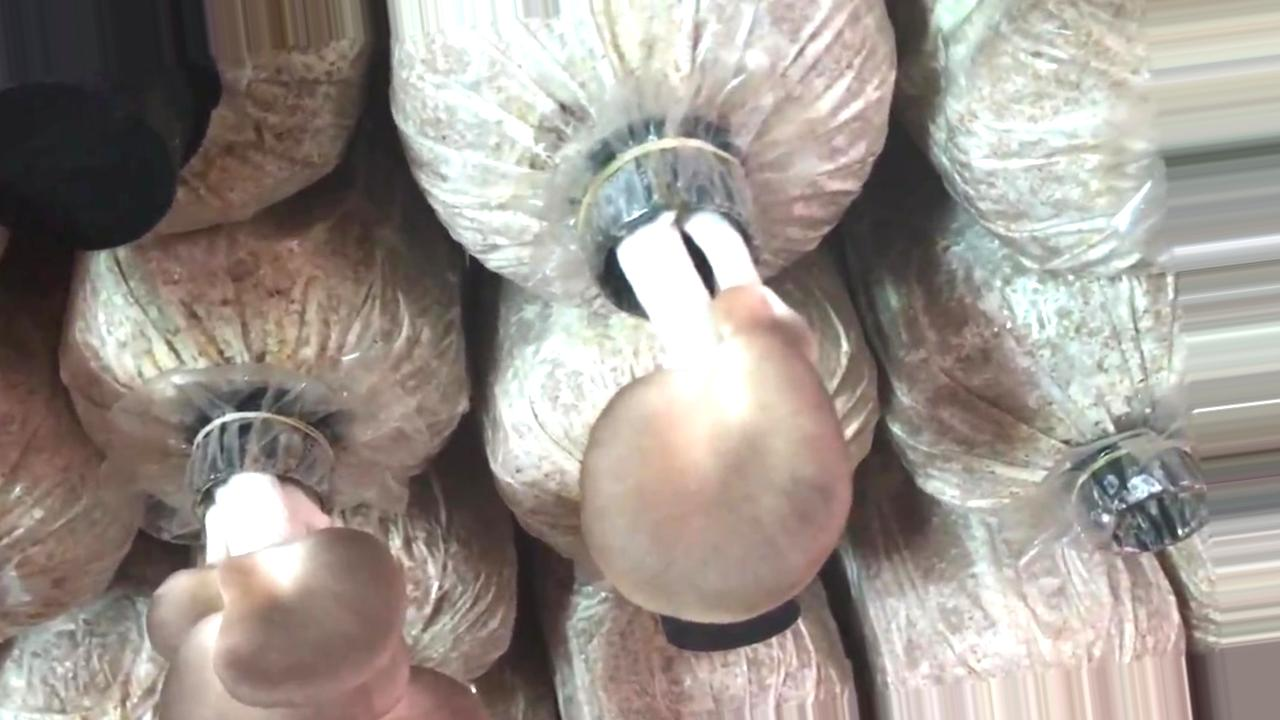nam: (577, 141, 856, 623), (151, 418, 482, 720)
